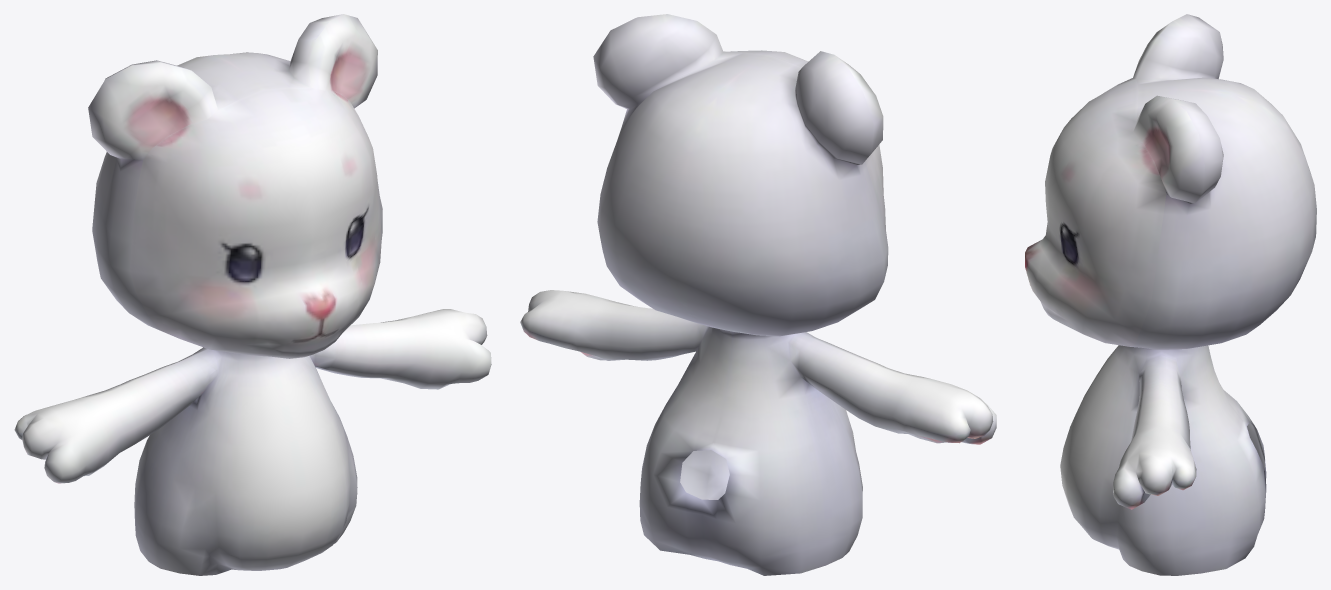
File: pet_00039.glb
The picture shows the model from 3 angles, left to right: view 1: azimuth 30°, elevation 25°; view 2: azimuth 150°, elevation 25°; view 3: azimuth 270°, elevation 25°; orthographic projection. The views are drawn at different scales.
Bounding box in the file's own units: 0.9459 × 1 × 0.5492.
2 materials, 2 textured.
